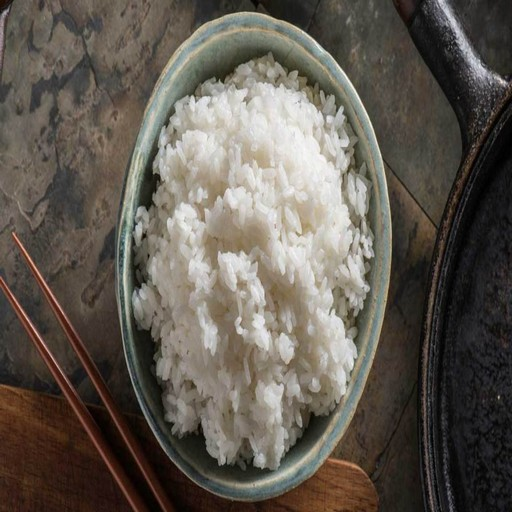rice: (189, 161, 296, 434)
